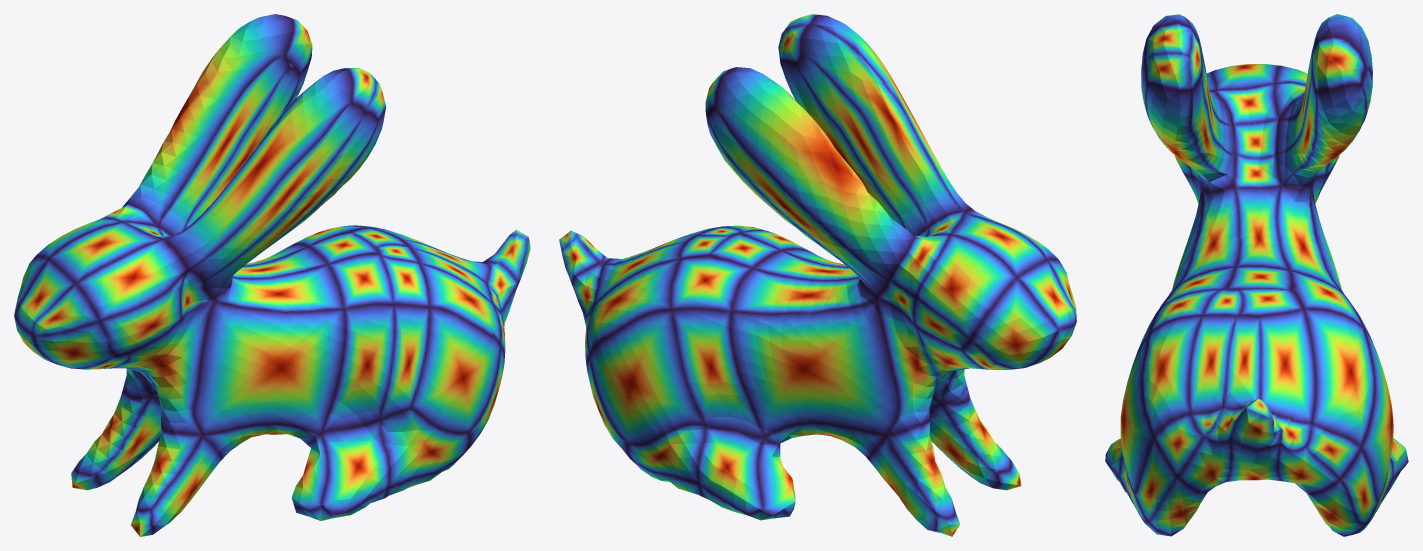
File: gen1.glb
3 views of the same model, side by side, from view 1: azimuth 30°, elevation 25°; view 2: azimuth 150°, elevation 25°; view 3: azimuth 270°, elevation 25° (orthographic). The views are drawn at different scales.
Visible parts, largest first — view 1: Node; view 2: Node; view 3: Node.
Boxes of the visible parts, <box> form: Node: <box>14,14,530,536</box>; Node: <box>559,14,1076,536</box>; Node: <box>1105,14,1408,536</box>.
Bounding box in the file's own units: 101 × 79.96 × 47.22.
Materials: 1 (1 with a texture image).
